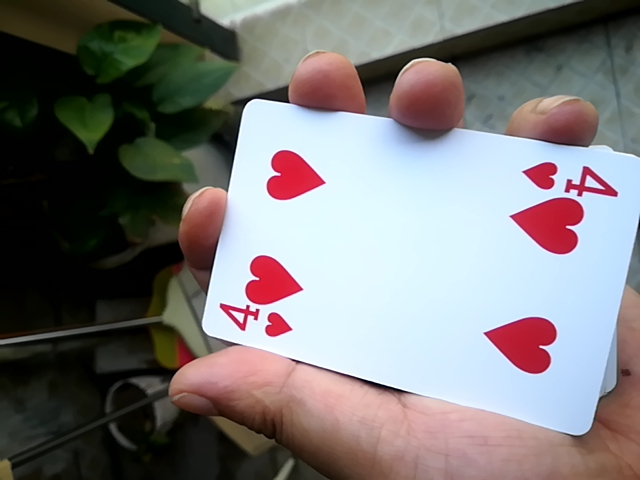hx 4: (181, 95, 634, 437)
